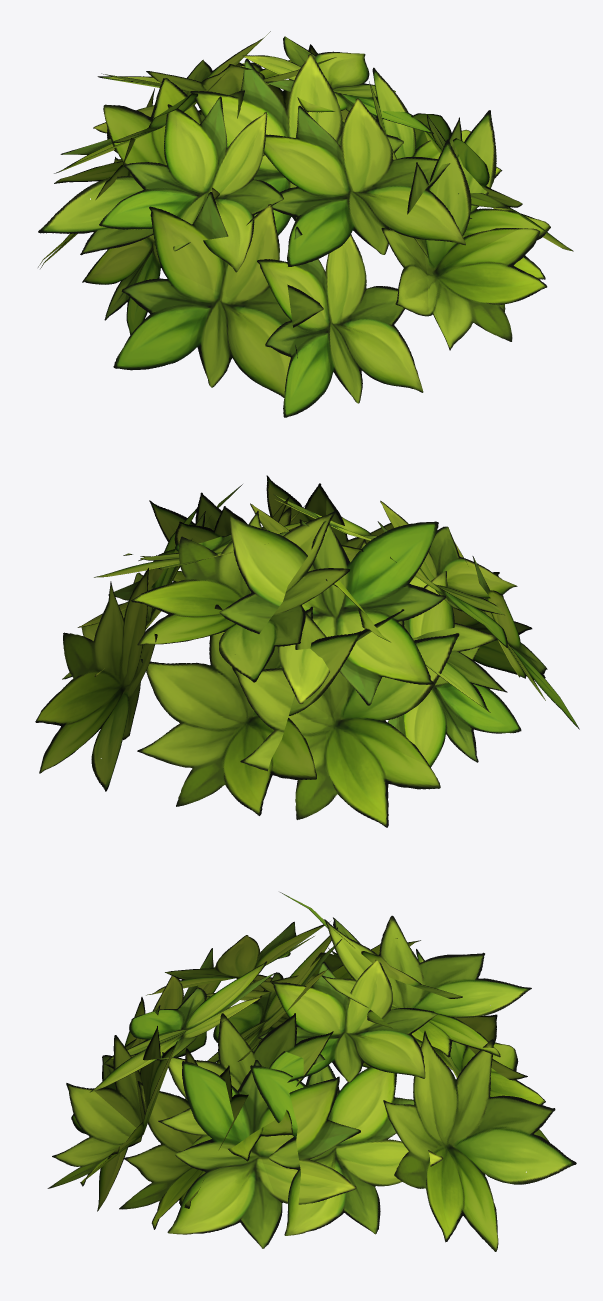
Rendered from Stage01_Bush02.FBX.
3 renders of one model, top to bottom at view 1: azimuth 30°, elevation 25°; view 2: azimuth 150°, elevation 25°; view 3: azimuth 270°, elevation 25°, orthographic. The views are drawn at different scales.
Parts seen in each view (by area): view 1: Stage01_Bush02; view 2: Stage01_Bush02; view 3: Stage01_Bush02.
Part boxes in pixels (bbox=[...]): Stage01_Bush02: bbox=[38, 31, 573, 417]; Stage01_Bush02: bbox=[35, 475, 579, 827]; Stage01_Bush02: bbox=[47, 892, 576, 1251].
Size of the model in its own units: 52.64 by 29.22 by 57.52.
